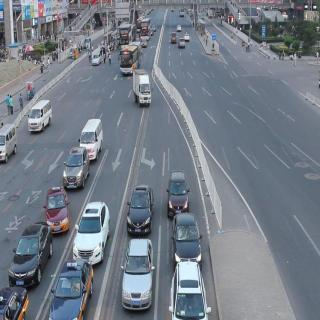BigCar: (133, 70, 157, 118), (112, 41, 141, 70), (137, 14, 156, 42), (117, 23, 135, 42)
Car: (47, 258, 96, 320), (168, 265, 212, 320), (125, 227, 151, 310), (172, 205, 204, 267), (16, 223, 46, 288), (79, 195, 106, 263), (44, 183, 70, 241), (129, 177, 154, 228), (166, 166, 193, 213), (62, 145, 90, 187), (81, 114, 103, 160), (30, 98, 55, 137)
